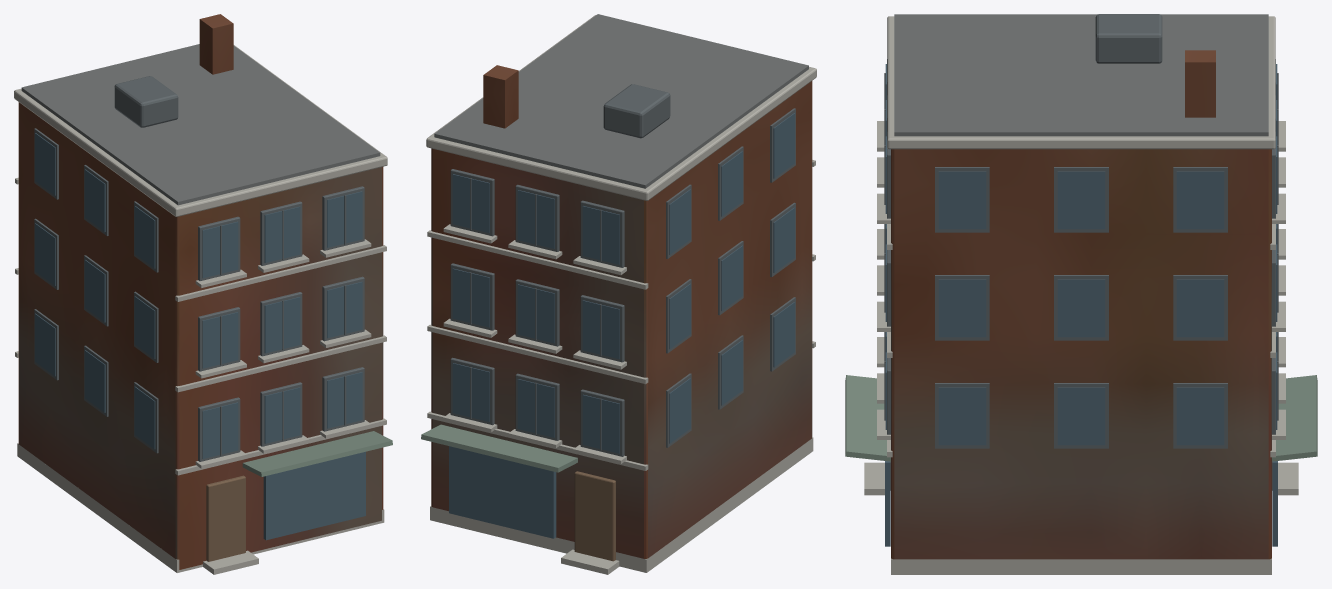
Rendered from building-high-2.glb.
3 renders of one model, left to right at view 1: azimuth 30°, elevation 25°; view 2: azimuth 150°, elevation 25°; view 3: azimuth 270°, elevation 25°, orthographic. The views are drawn at different scales.
Visible parts, largest first — view 1: building-2; view 2: building-2; view 3: building-2.
Boxes of the visible parts, x1=… form: building-2: x1=14, y1=14, x2=392, y2=574; building-2: x1=421, y1=14, x2=816, y2=574; building-2: x1=845, y1=14, x2=1317, y2=574.
Bounding box in the file's own units: 6.15 × 11.5 × 9.91.
Materials: 7 (1 with a texture image).
